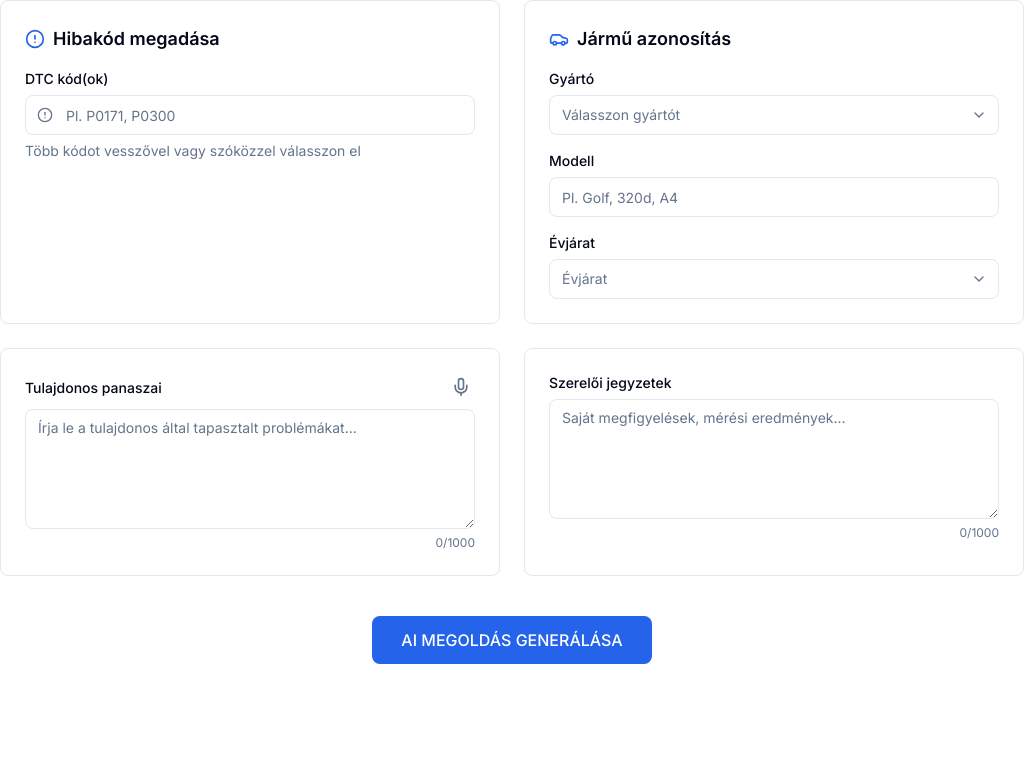
DiagnosisForm DTC validation › names only the offending code when the list is mixed
The image size is (1024, 768).
Type "P0300, PEACE" into the field labelled "DTC kód(ok)" at (250,115), box [25, 95, 475, 135]
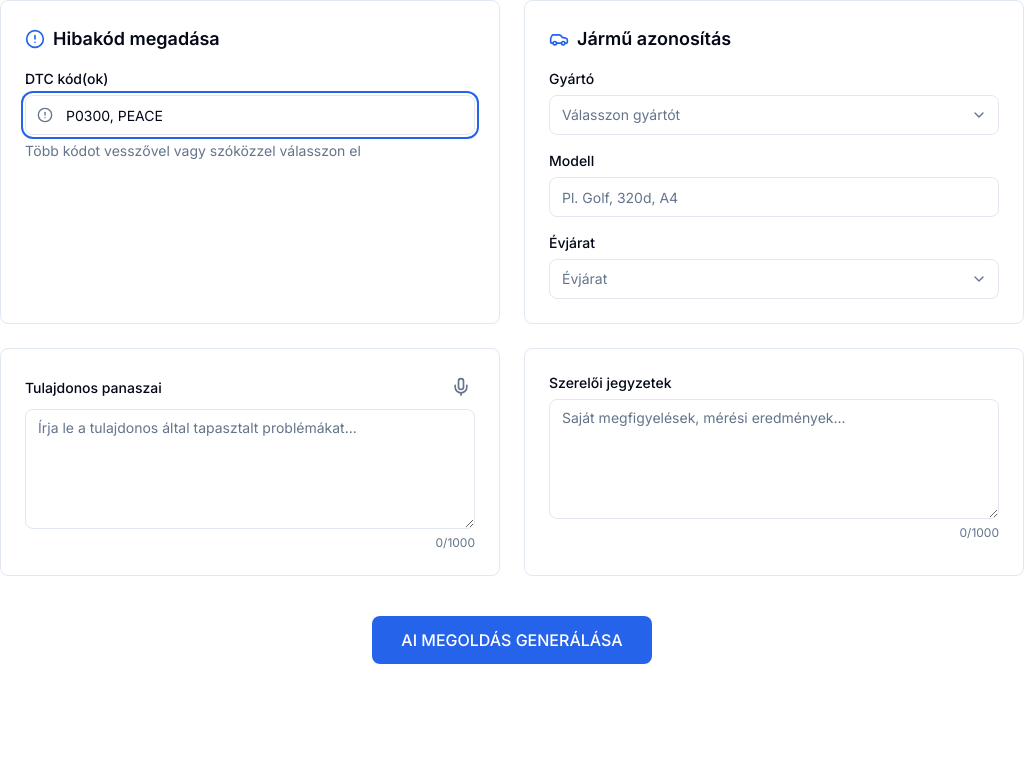
Select "Volkswagen" in the dropdown labelled "Gyártó" at (774,115), box [549, 95, 999, 135]
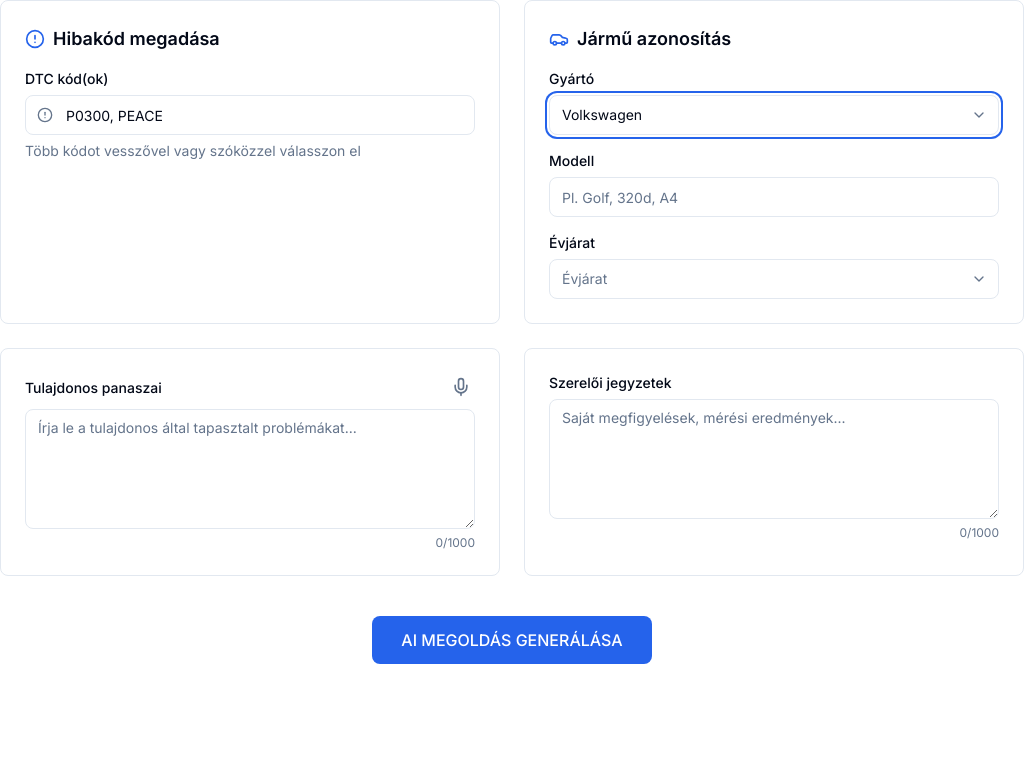
Click the button "AI MEGOLDÁS GENERÁLÁSA" at (512,640), box [372, 616, 652, 664]
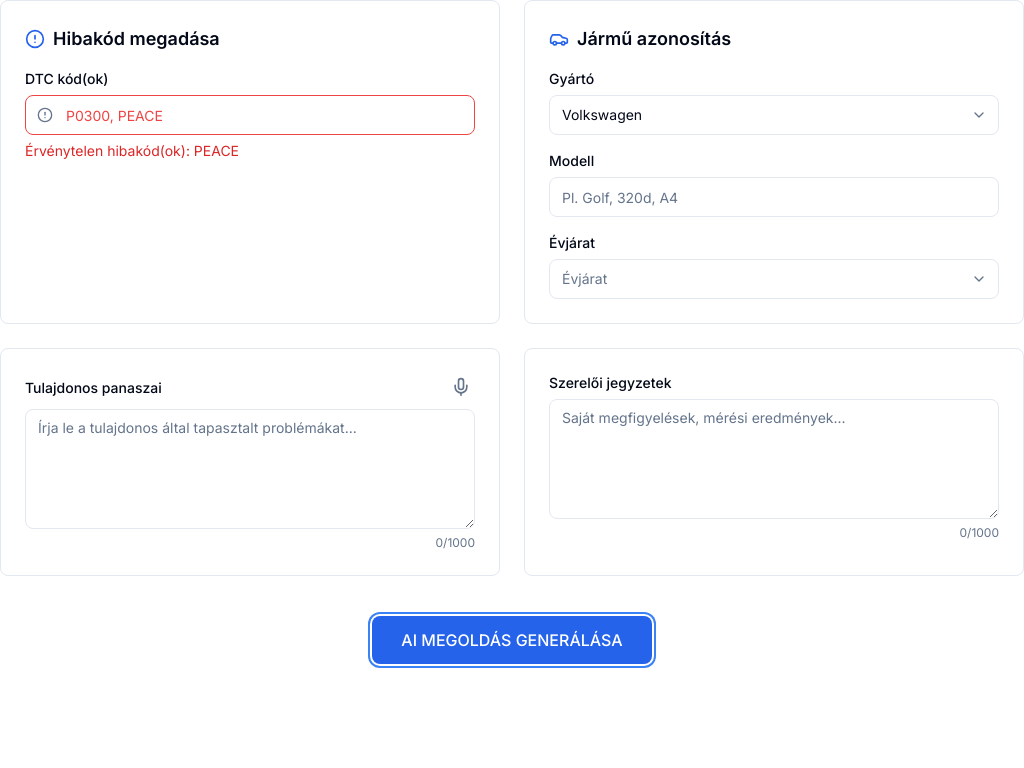
Expected: the text "Érvénytelen hibakód(ok): PEACE" is shown, [25, 142, 239, 159]
